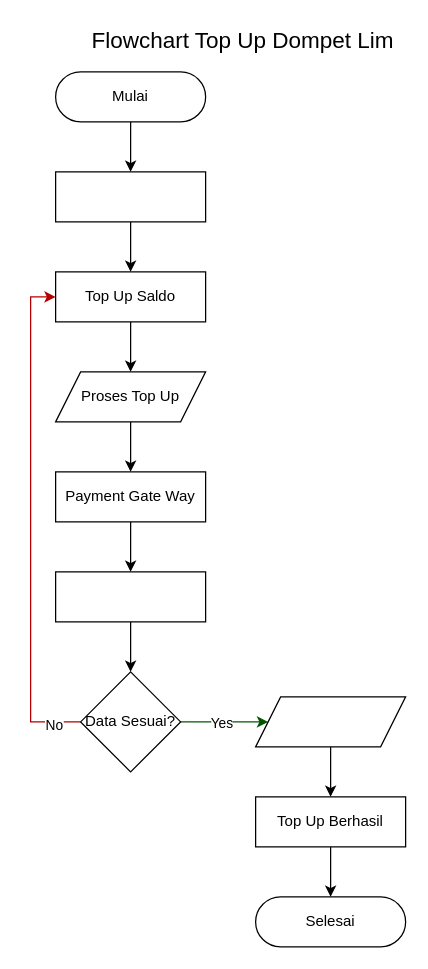
This 428x969 diagram has some shape labels left out. The shapes that lost their labels are listed below. From the top down, each one's centre as x and y in pixels, then its label:
At (130,196): "Home".
At (130,596): "Cek Data".
At (330,721): "Verifikasi Pin".
